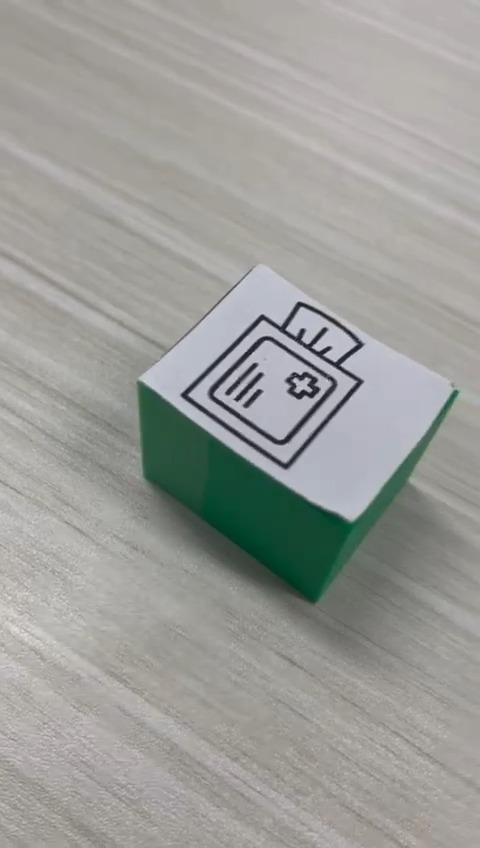Gauze: (135, 261, 459, 604)
